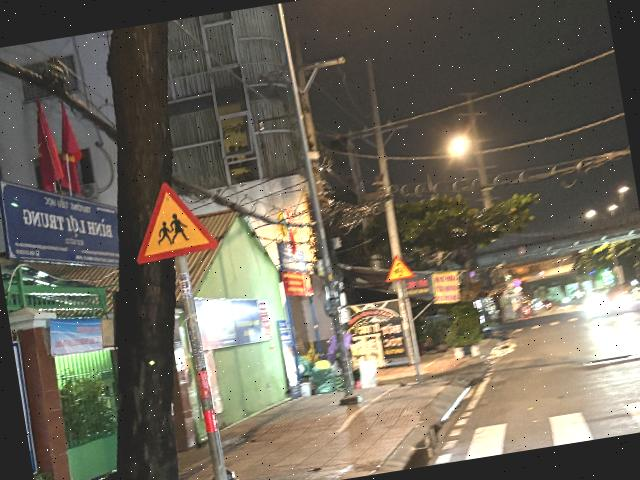tre-em-qua-duong: (125, 174, 220, 265)
